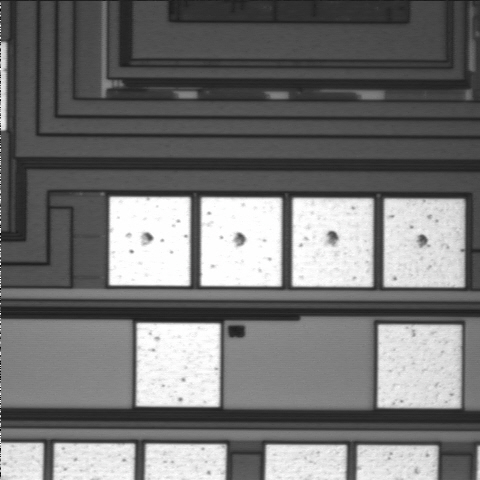pad: (109, 197, 191, 286), (201, 197, 282, 286), (292, 198, 373, 287), (136, 323, 220, 407), (384, 199, 464, 287), (378, 325, 461, 408)
